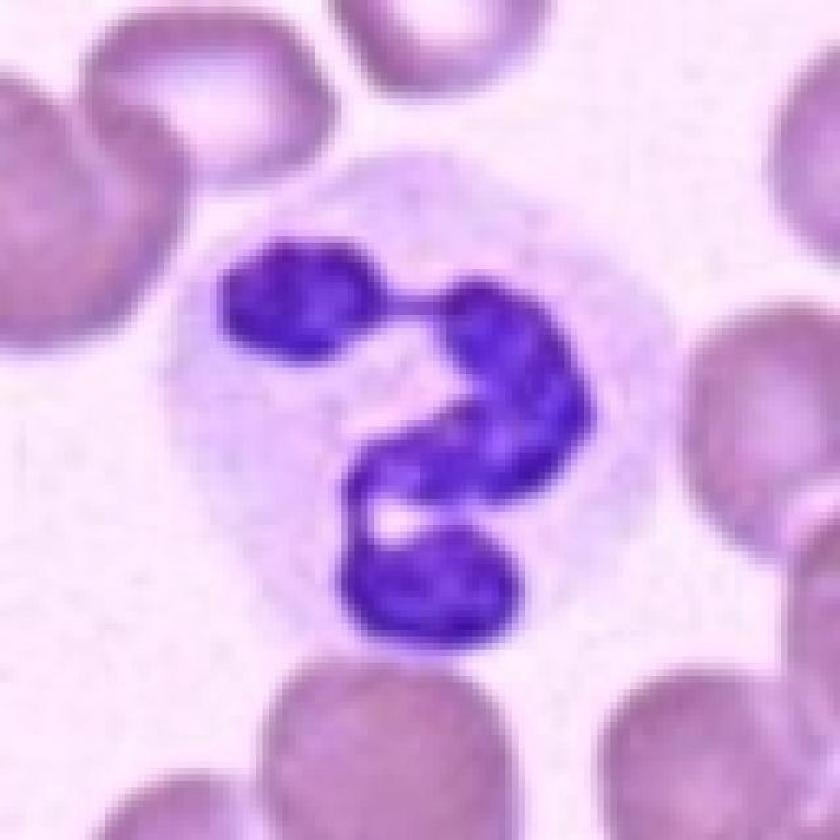neutrophil: (160, 148, 689, 672)
